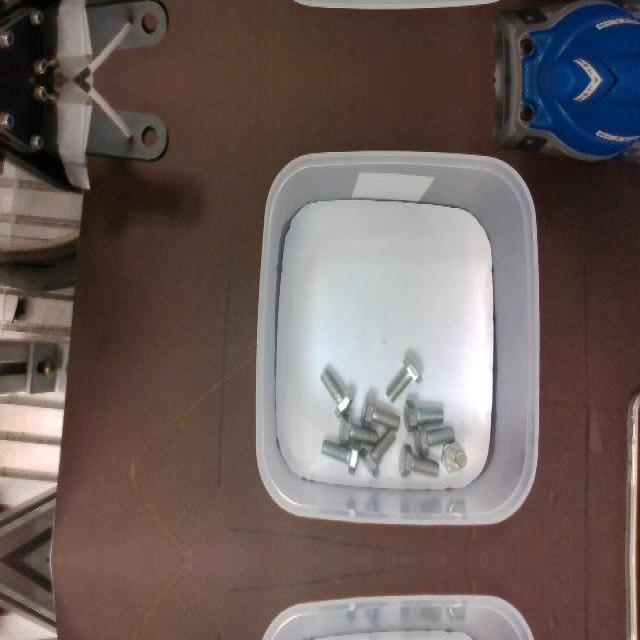screw: (360, 427, 396, 477), (386, 355, 423, 401), (320, 369, 354, 419), (360, 392, 400, 430), (414, 423, 455, 457), (399, 443, 440, 477), (319, 439, 360, 473), (338, 412, 378, 446), (403, 400, 443, 432), (440, 440, 466, 472)
